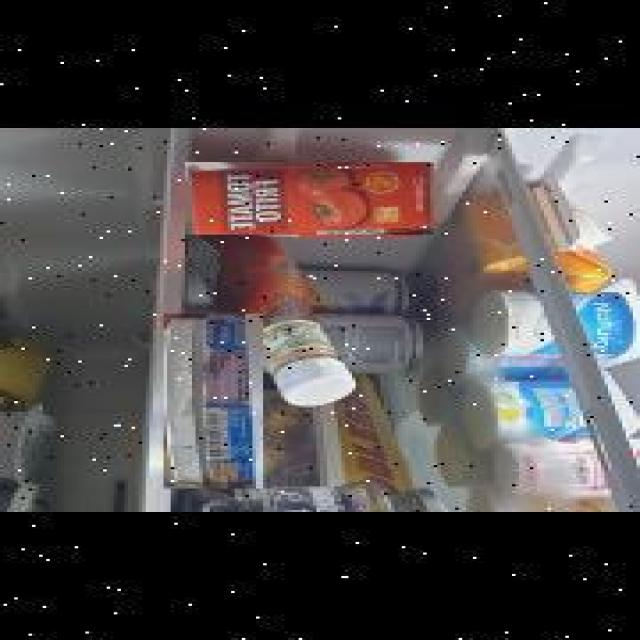cheese: (160, 314, 260, 488)
sausage: (0, 324, 71, 512)
tomato_sauce: (182, 163, 430, 236)
yogurt: (466, 277, 640, 367), (448, 371, 640, 444)
